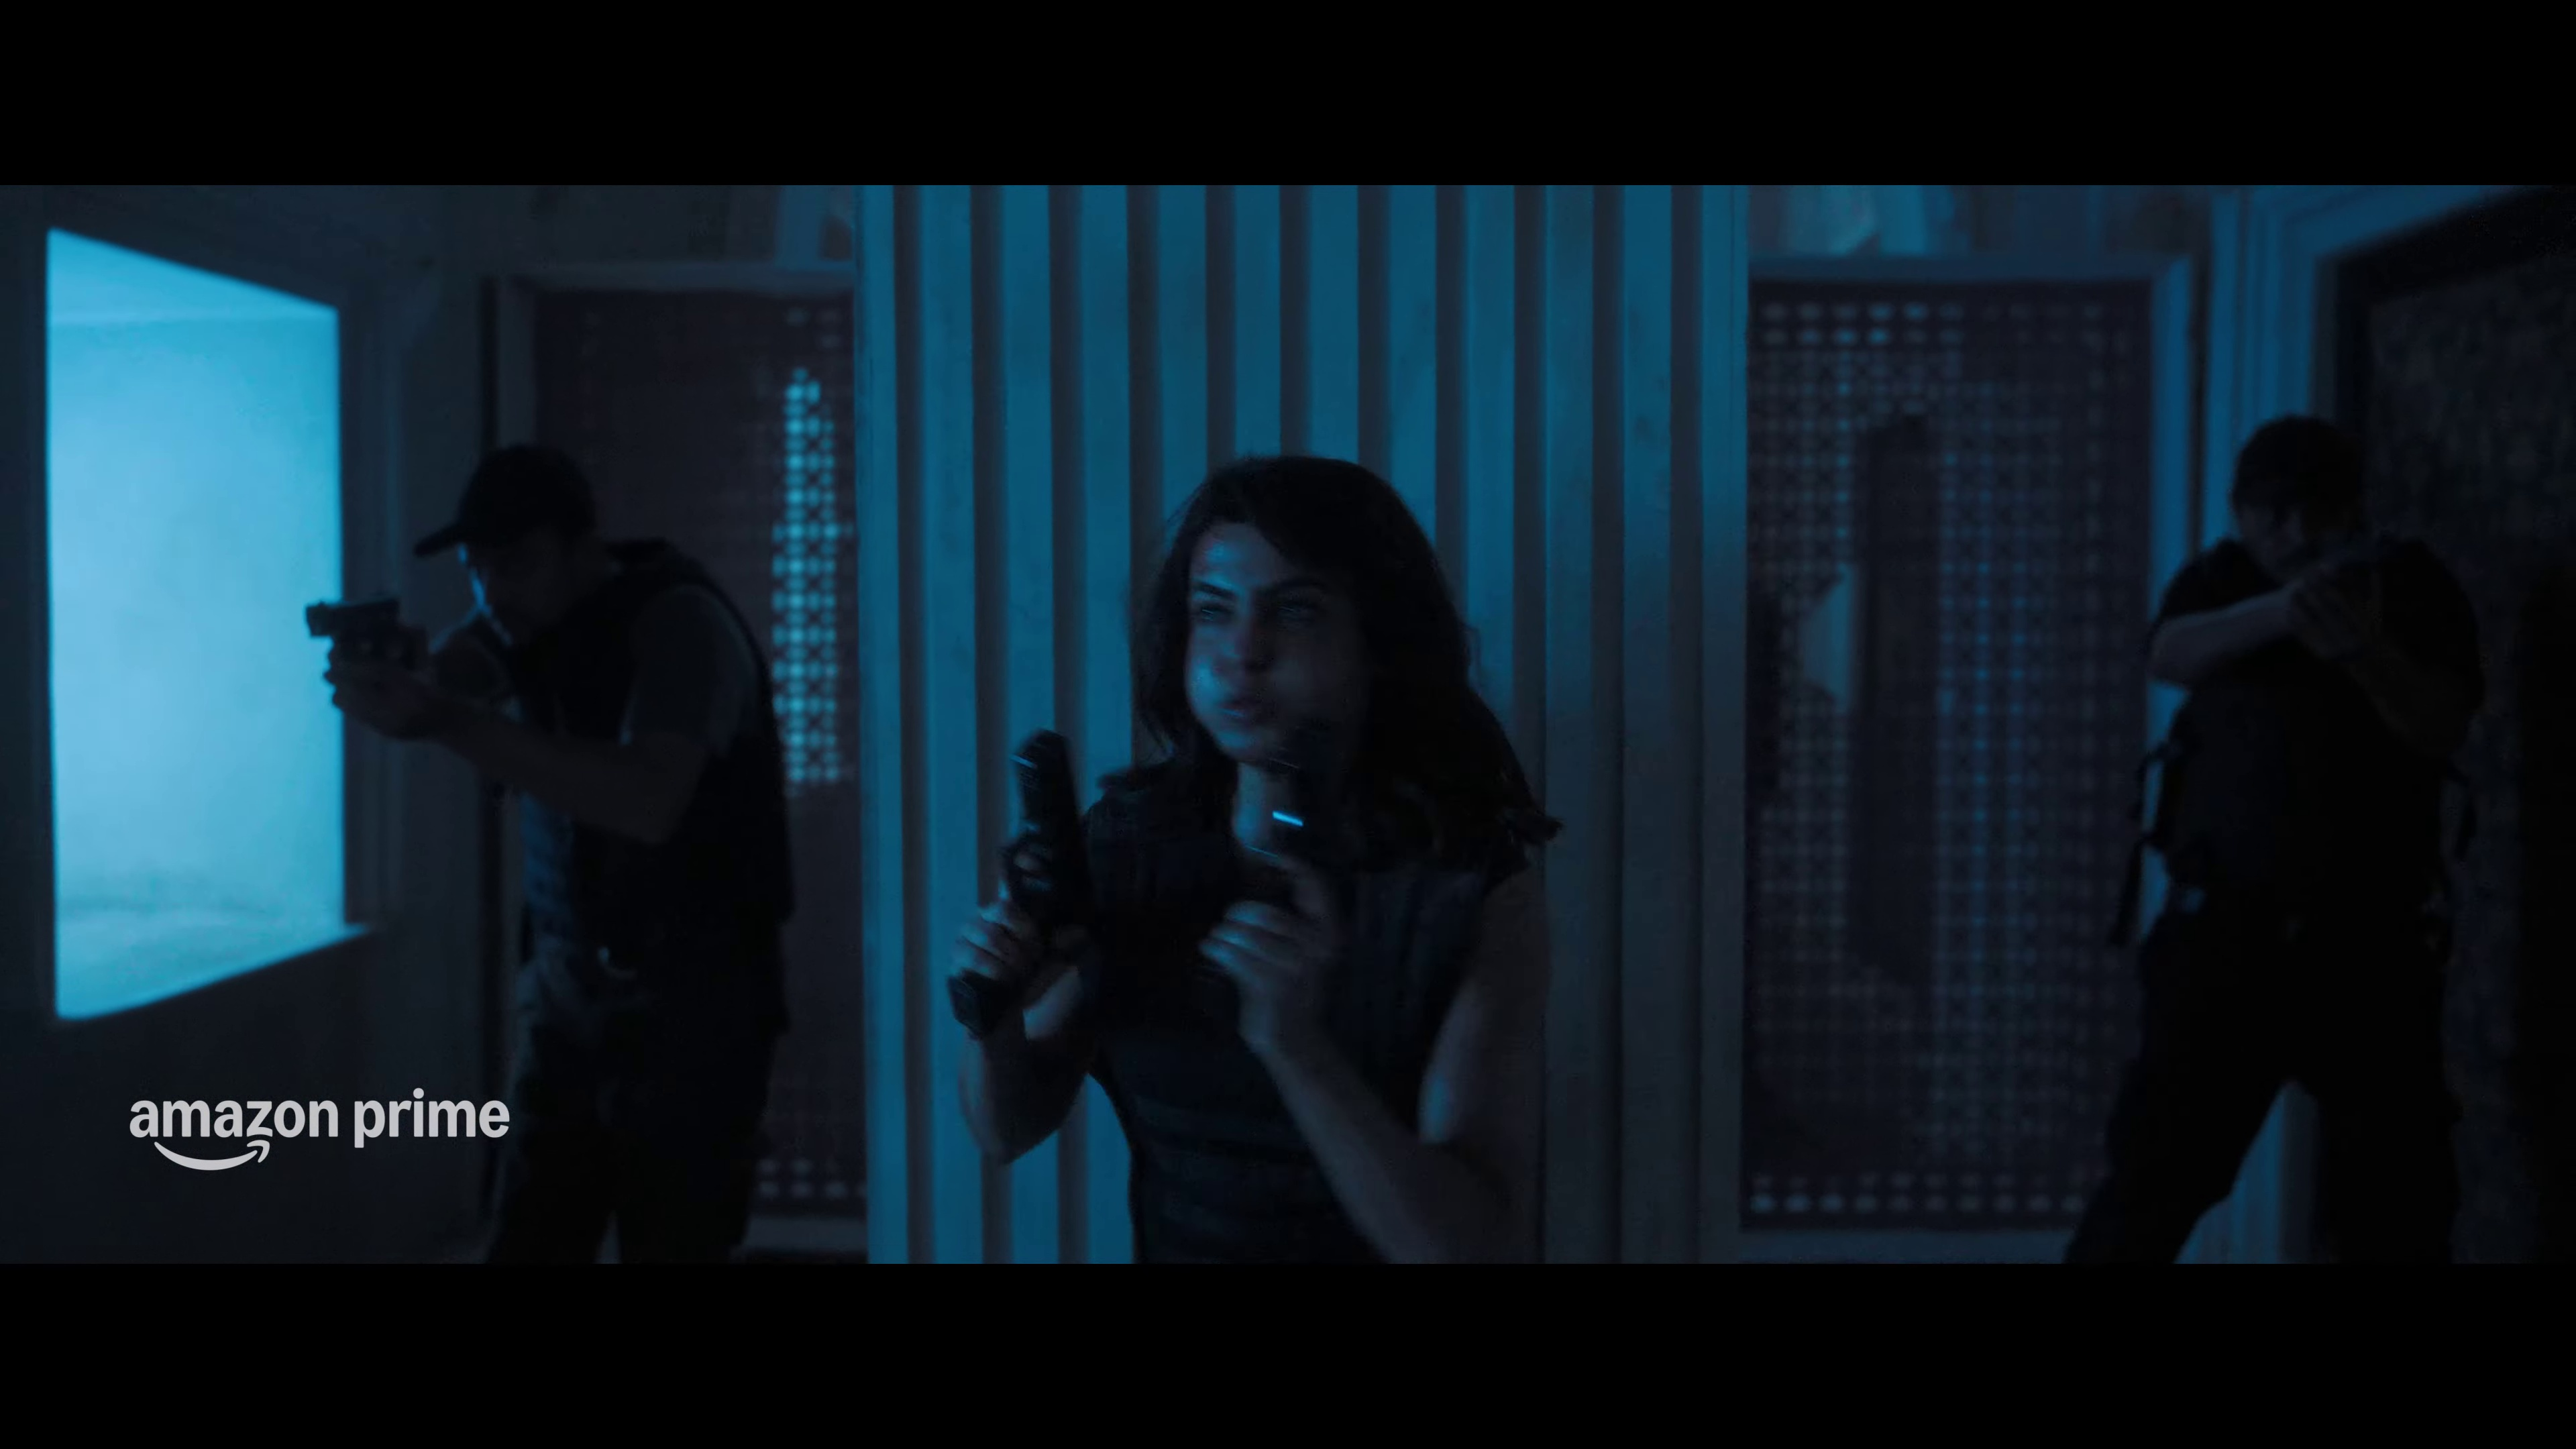gun: (947, 724, 1097, 1047), (306, 586, 414, 678)
p_w_gun: (932, 449, 1568, 1260), (308, 441, 801, 1263)
p_wo_gun_acting_like_shooting: (2049, 402, 2482, 1258)
